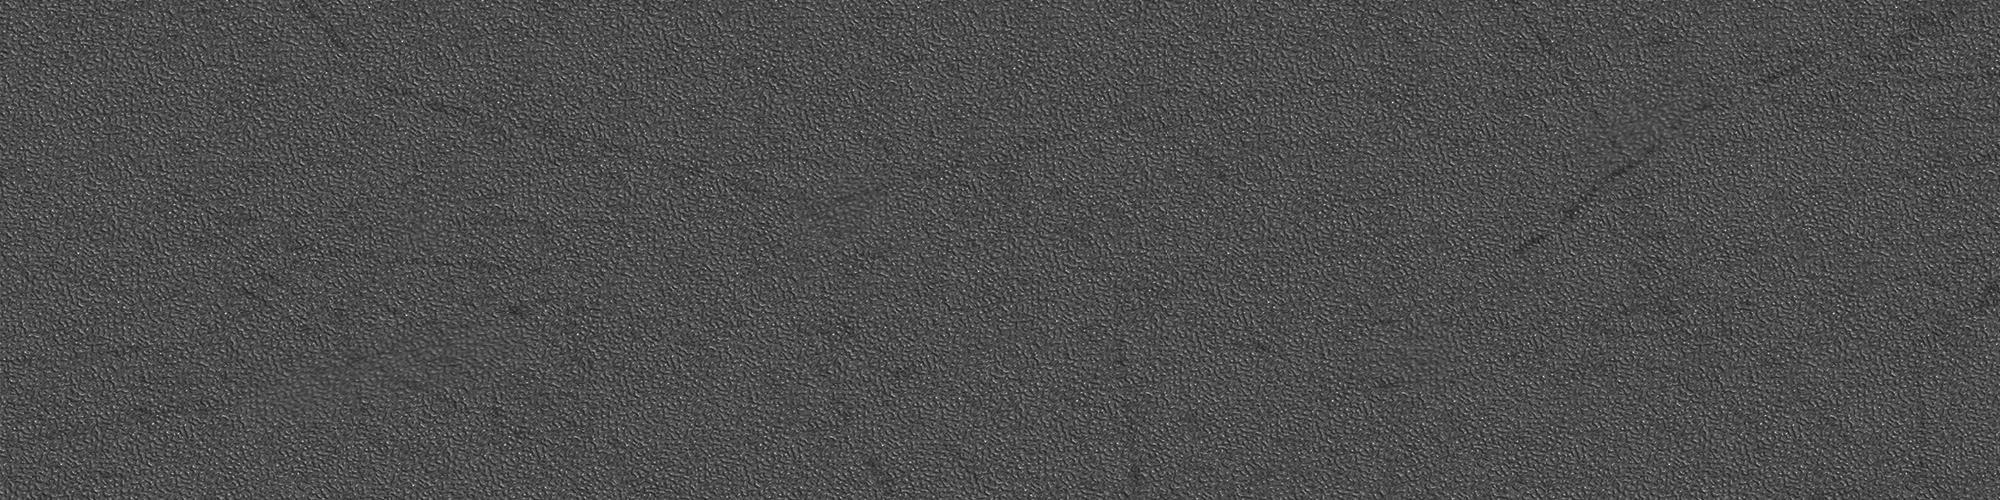Scratches: (293, 9, 796, 212), (798, 71, 1339, 224), (1510, 50, 1835, 258), (230, 255, 554, 423), (1006, 154, 1154, 495), (1, 324, 230, 457), (1483, 6, 1639, 173), (795, 316, 906, 500), (718, 361, 949, 449), (1111, 5, 1401, 52), (1355, 333, 1529, 406), (1747, 349, 1861, 457), (1571, 270, 1722, 349), (518, 301, 617, 397), (1202, 301, 1290, 360), (1179, 404, 1242, 471), (1196, 460, 1297, 500), (594, 427, 639, 489), (224, 198, 270, 246), (157, 121, 205, 165), (654, 330, 705, 357), (260, 62, 296, 89)
